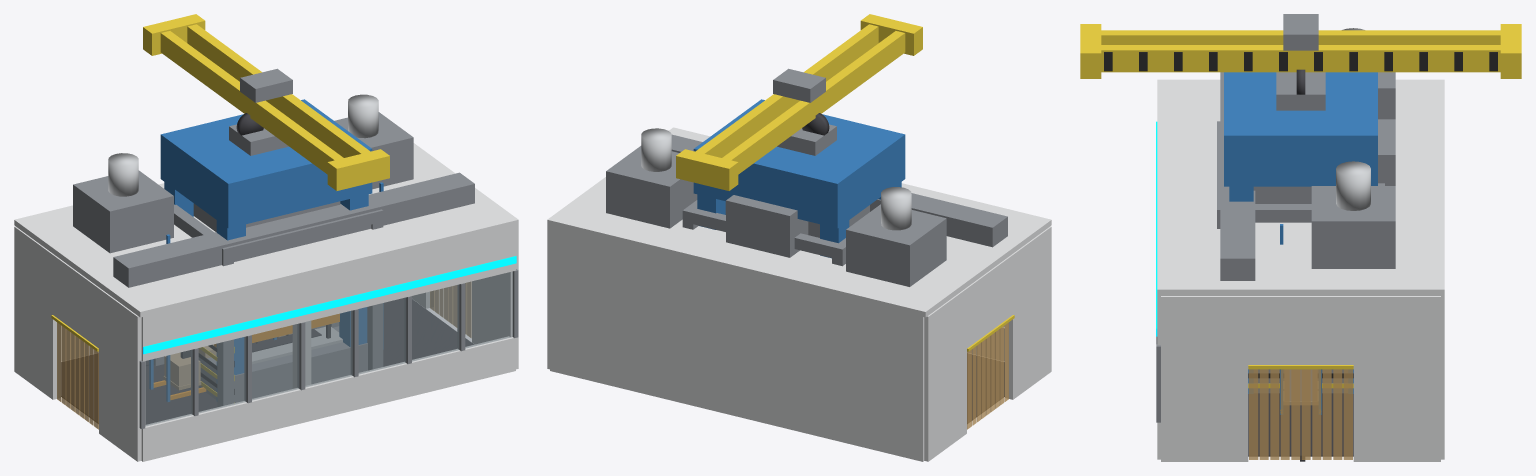
The model's file is machines.glb.
The picture shows the model from 3 angles, left to right: view 1: azimuth 30°, elevation 25°; view 2: azimuth 150°, elevation 25°; view 3: azimuth 270°, elevation 25°; orthographic projection. The views are drawn at different scales.
Parts seen in each view (by area): view 1: paint_booth, paint_booth_glass, press_frame, crane_bridge, marriage_frame, paint_booth_curtain, rack, crane_trolley, qc_gate, press_ram, marriage_beam; view 2: paint_booth, press_frame, crane_bridge, paint_booth_curtain, marriage_frame, crane_trolley; view 3: paint_booth, crane_bridge, press_frame, paint_booth_curtain, rack, marriage_frame, crane_trolley, press_ram.
Boxes of the visible parts, x1,y1,x2,y2 form: paint_booth: (14,94,518,461); paint_booth_glass: (145,271,512,426); press_frame: (160,99,372,402); crane_bridge: (143,14,389,190); marriage_frame: (153,204,383,406); paint_booth_curtain: (57,282,471,429); rack: (149,182,383,401); crane_trolley: (240,68,292,102); qc_gate: (292,320,311,388); press_ram: (193,201,340,231); marriage_beam: (214,313,339,347); paint_booth: (547,127,1051,461); press_frame: (693,99,905,258); crane_bridge: (676,14,922,190); paint_booth_curtain: (967,322,1008,429); marriage_frame: (682,200,845,266); crane_trolley: (773,68,825,102); paint_booth: (1156,28,1444,461); crane_bridge: (1080,24,1521,78); press_frame: (1224,69,1377,393); paint_booth_curtain: (1249,369,1352,459); rack: (1280,224,1321,414); marriage_frame: (1217,121,1384,228); crane_trolley: (1283,14,1318,50); press_ram: (1253,186,1311,203).
Bounding box in the file's own units: 14.42 × 12.3 × 12.6.
